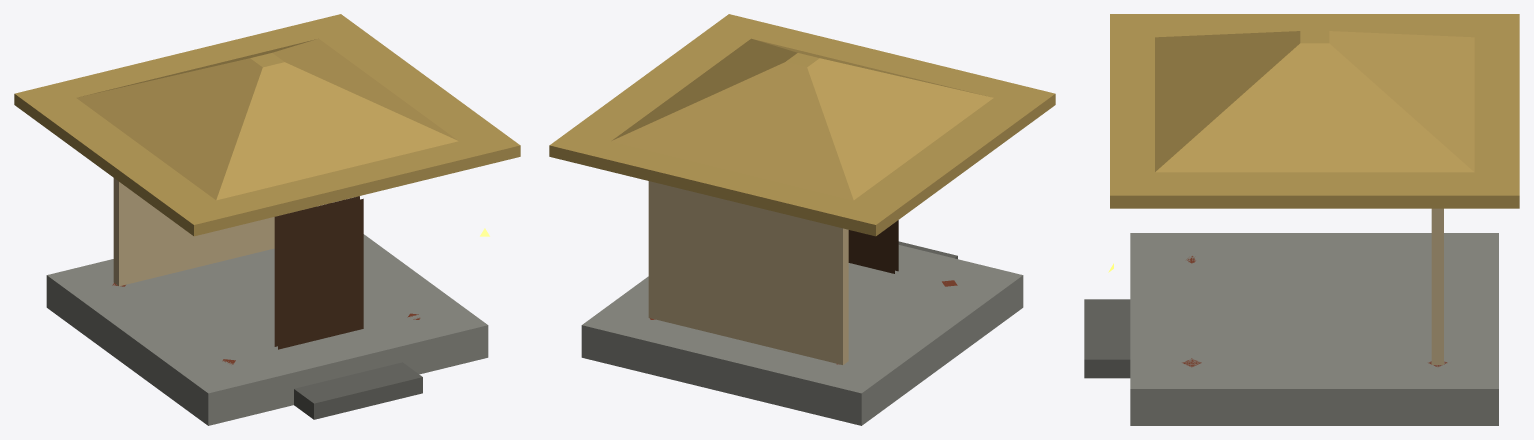
Rendered from prop_small_shrine_lod1.glb.
The picture shows the model from 3 angles, left to right: view 1: azimuth 30°, elevation 25°; view 2: azimuth 150°, elevation 25°; view 3: azimuth 270°, elevation 25°; orthographic projection. The views are drawn at different scales.
Visible parts, largest first — view 1: prop_small_shrine_lod1; view 2: prop_small_shrine_lod1; view 3: prop_small_shrine_lod1.
Part boxes in pixels (box(x1,y1,x2,y2)): prop_small_shrine_lod1: box(14, 14, 520, 425); prop_small_shrine_lod1: box(549, 14, 1055, 425); prop_small_shrine_lod1: box(1084, 14, 1519, 425).
Size of the model in its own units: 4.2 by 3.35 by 4.25.
